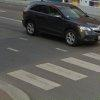Car: (18, 0, 100, 51)
